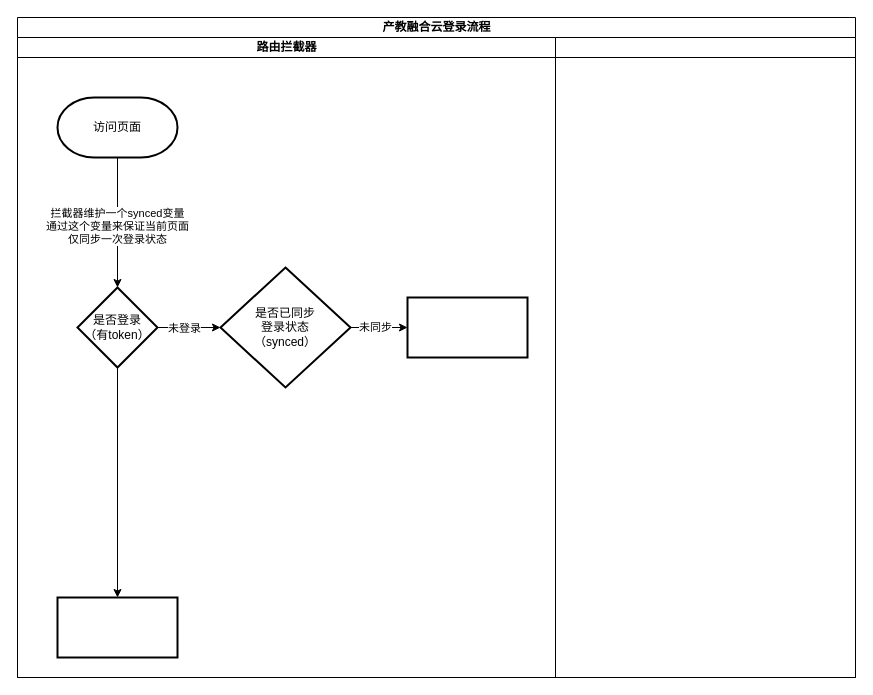
The diagram is 873 pixels wide and 695 high, and some of its shapes have lost their labels. The centre of each missing label's shape, as x and y in pixels:
"用户中心" goes at (x=705, y=357).
"目标页面 (to.path)" goes at (x=117, y=627).
